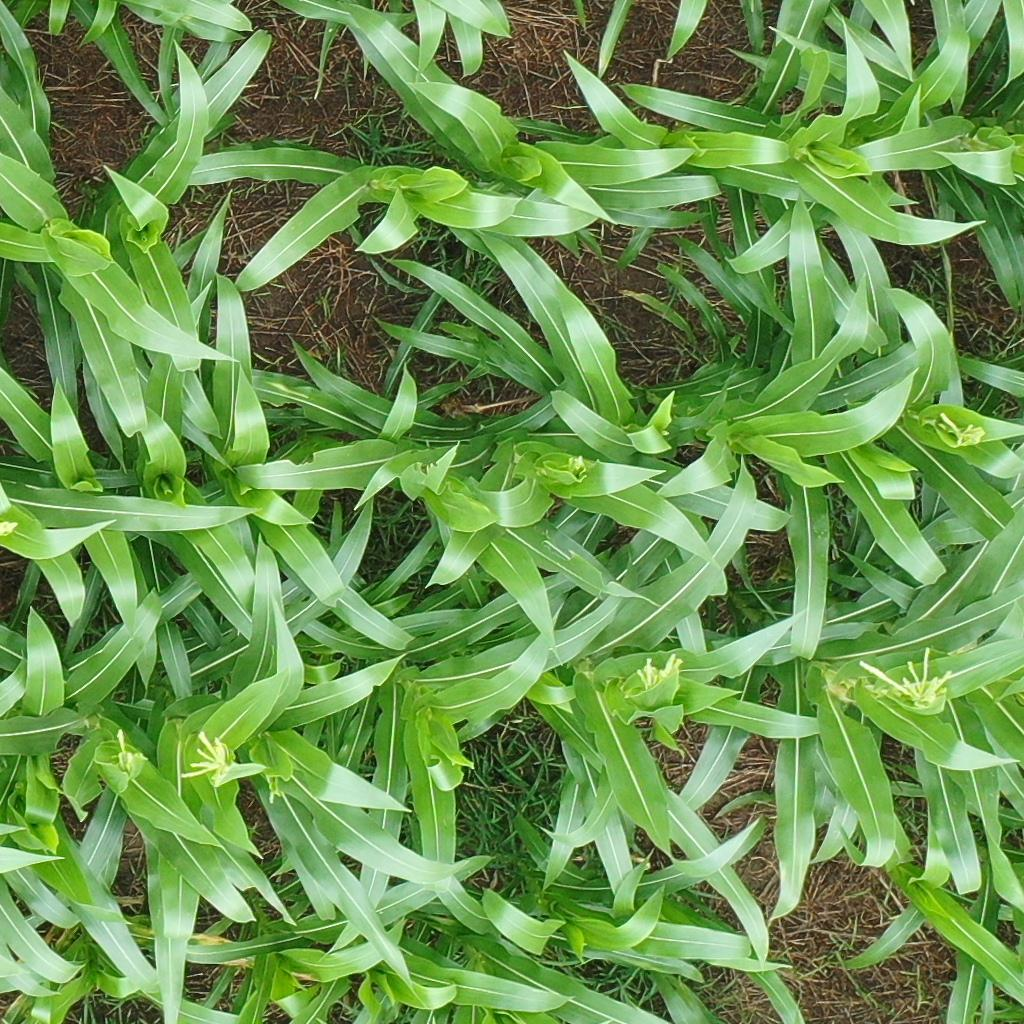Tassel: (852, 644, 953, 713), (174, 730, 239, 787), (636, 647, 683, 705), (936, 409, 989, 451), (109, 727, 149, 780), (563, 452, 596, 481)
